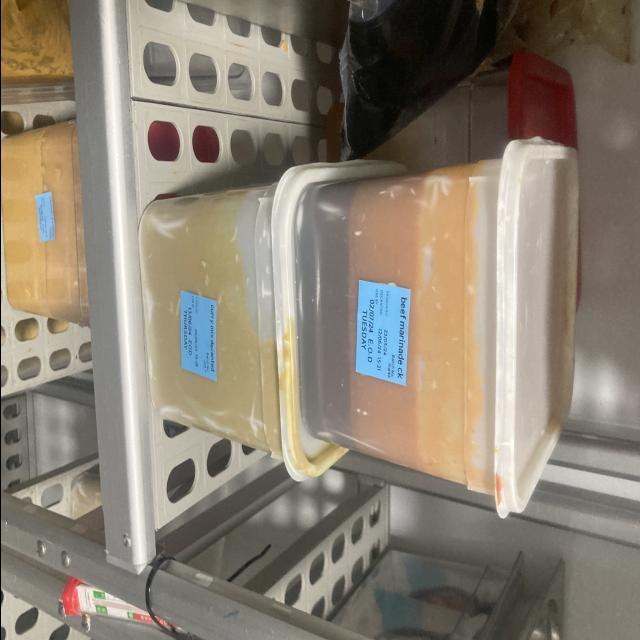product-labels: (354, 280, 410, 385), (179, 290, 215, 381), (33, 192, 55, 243)
